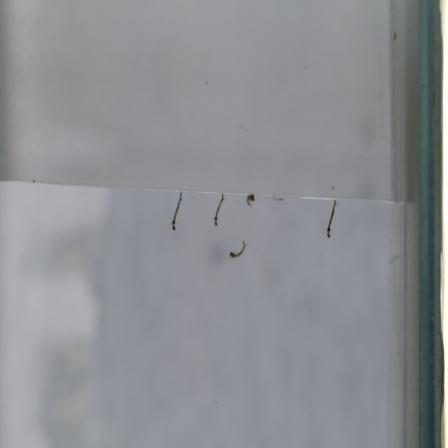Jentik-Nyamuk: (167, 189, 187, 235), (324, 198, 342, 242), (224, 238, 249, 265), (210, 189, 227, 226), (243, 190, 260, 209)
